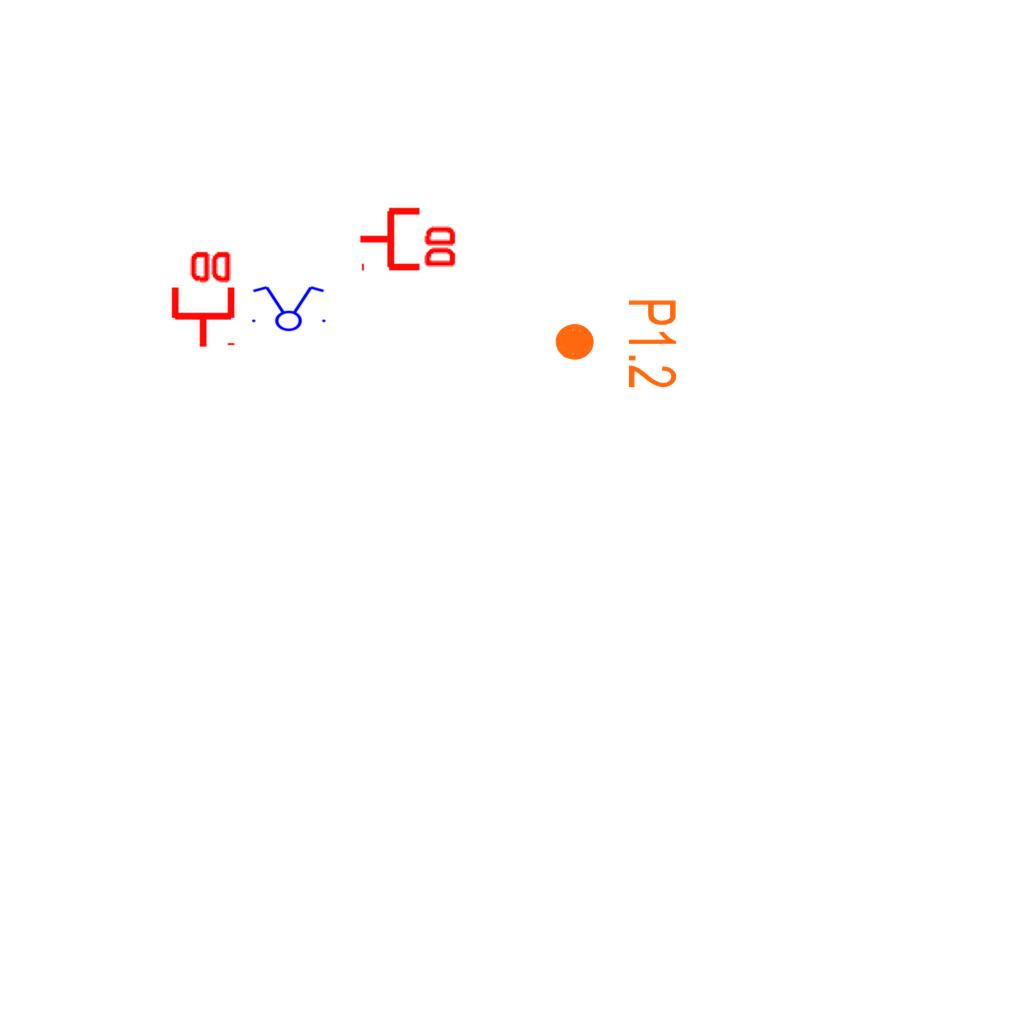Datenanschluss_zweifach: (357, 203, 460, 272), (167, 247, 236, 350)
Downlight_LED_Einbauleuchten_Flur: (552, 297, 680, 390)
Serienschalter: (246, 284, 330, 332)
